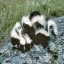skunk: (34, 22, 57, 46), (13, 23, 33, 48), (10, 30, 26, 49), (23, 16, 35, 37)
